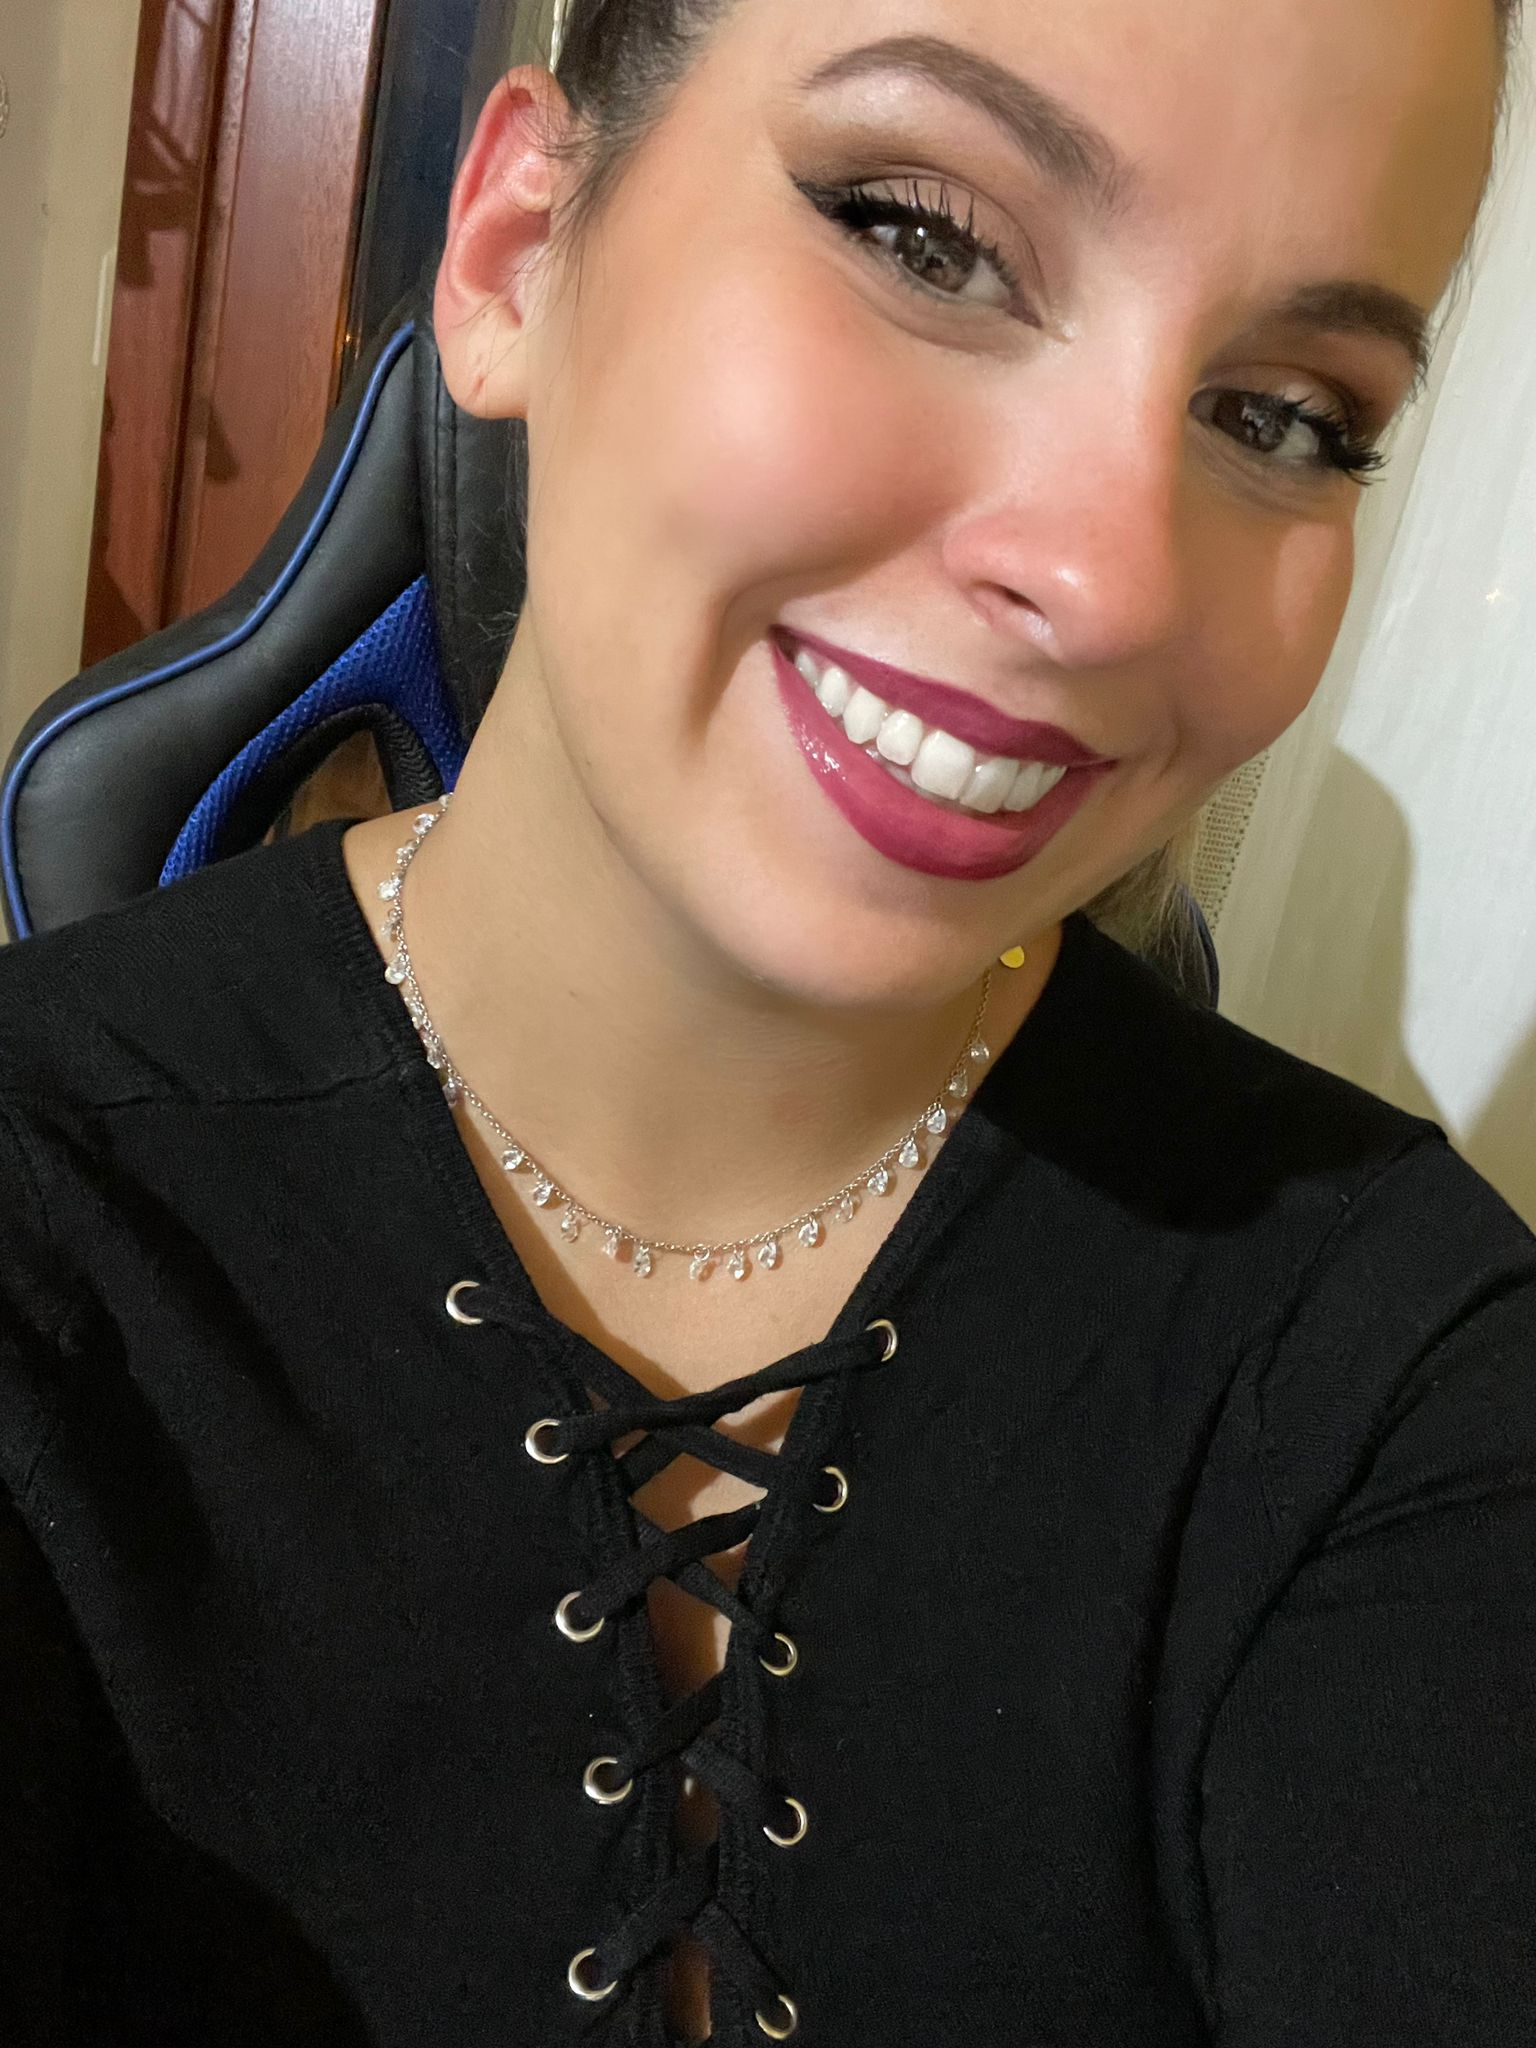without_mask: (420, 1, 1536, 985)
